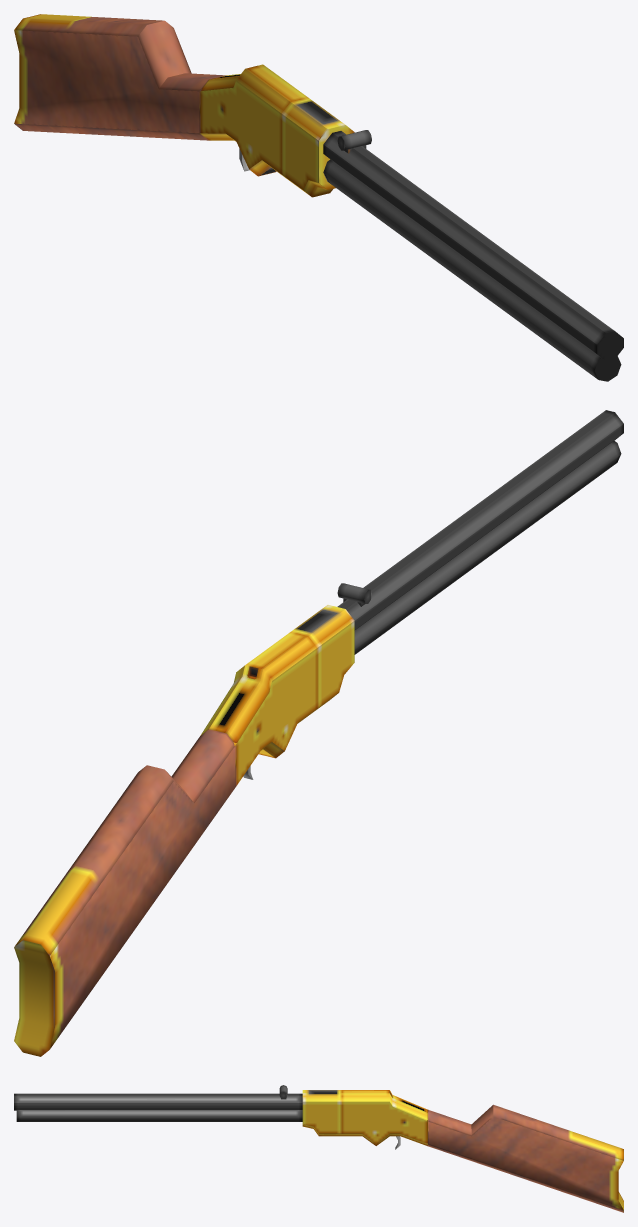
Rendered from henry_gun.obj.
3 renders of one model, top to bottom at view 1: azimuth 30°, elevation 25°; view 2: azimuth 150°, elevation 25°; view 3: azimuth 270°, elevation 25°, orthographic. The views are drawn at different scales.
Visible parts, largest first — view 1: Gun; view 2: Gun; view 3: Gun.
Part boxes in pixels (<box>): Gun: <box>14,14,623,381</box>; Gun: <box>14,410,623,1056</box>; Gun: <box>14,1085,623,1212</box>.
Size of the model in its own units: 0.5 by 3.09 by 14.
